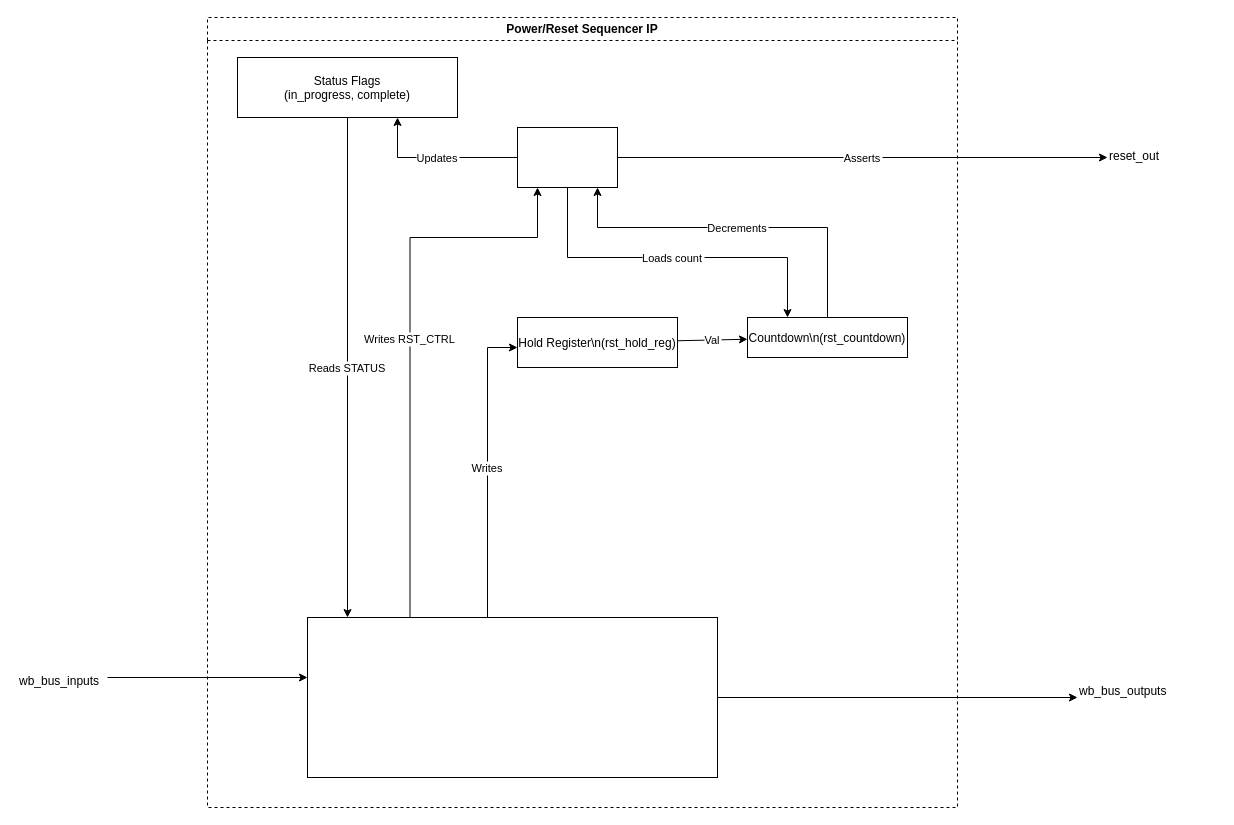
This 1234x825 diagram has some shape labels left out. Here are the shapes that lost their labels. From the top down, the centre of each, then its label:
At (x=567, y=157): "FSM\n(rst_state)".
At (x=512, y=697): "Wishbone Interface & Decode".
